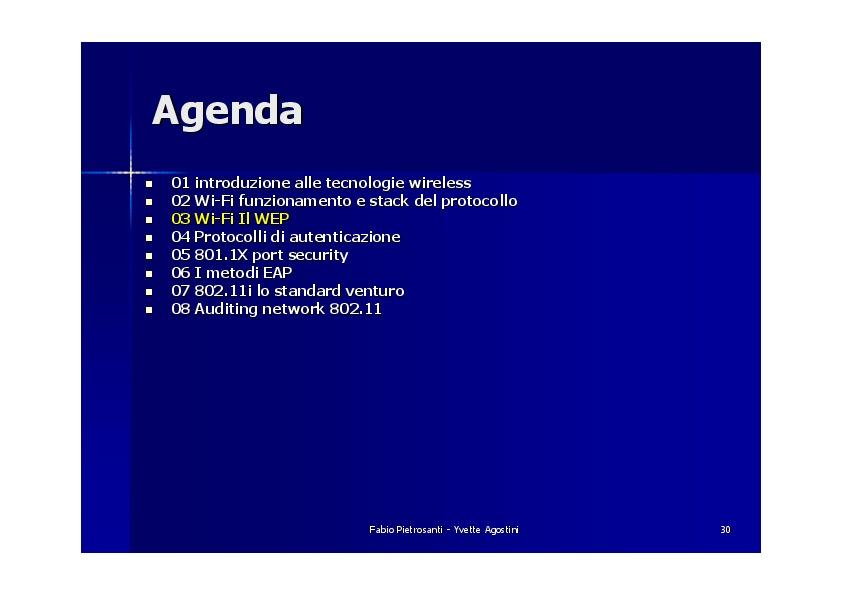paragraph: (136, 167, 547, 334)
title: (142, 81, 319, 142)
